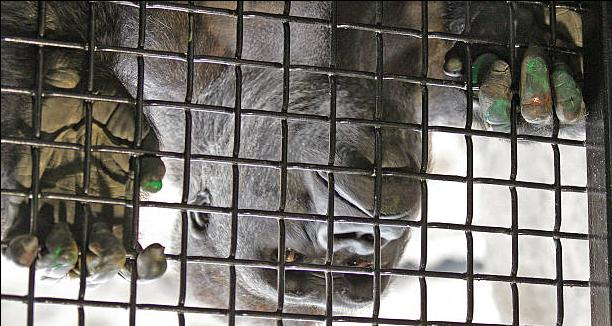gorille_Autres: (124, 0, 490, 326)
